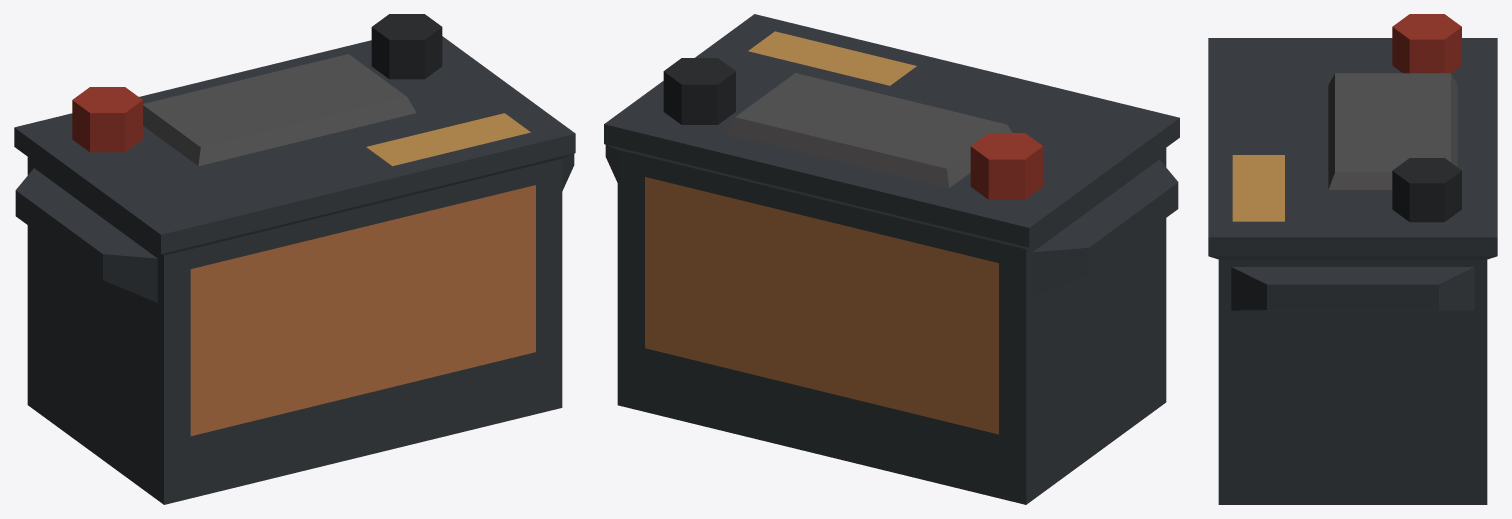
File: SM_Prop_CarBattery_01.glb
3 renders of one model, left to right at view 1: azimuth 30°, elevation 25°; view 2: azimuth 150°, elevation 25°; view 3: azimuth 270°, elevation 25°, orthographic. The views are drawn at different scales.
Parts seen in each view (by area): view 1: SM_Prop_CarBattery_01; view 2: SM_Prop_CarBattery_01; view 3: SM_Prop_CarBattery_01.
Part boxes in pixels (x1,y1,x2,y2): SM_Prop_CarBattery_01: (14,14,575,504); SM_Prop_CarBattery_01: (604,14,1179,504); SM_Prop_CarBattery_01: (1208,14,1497,504).
Bounding box in the file's own units: 0.4841 × 0.3095 × 0.2611.
Materials: 1 (1 with a texture image).
